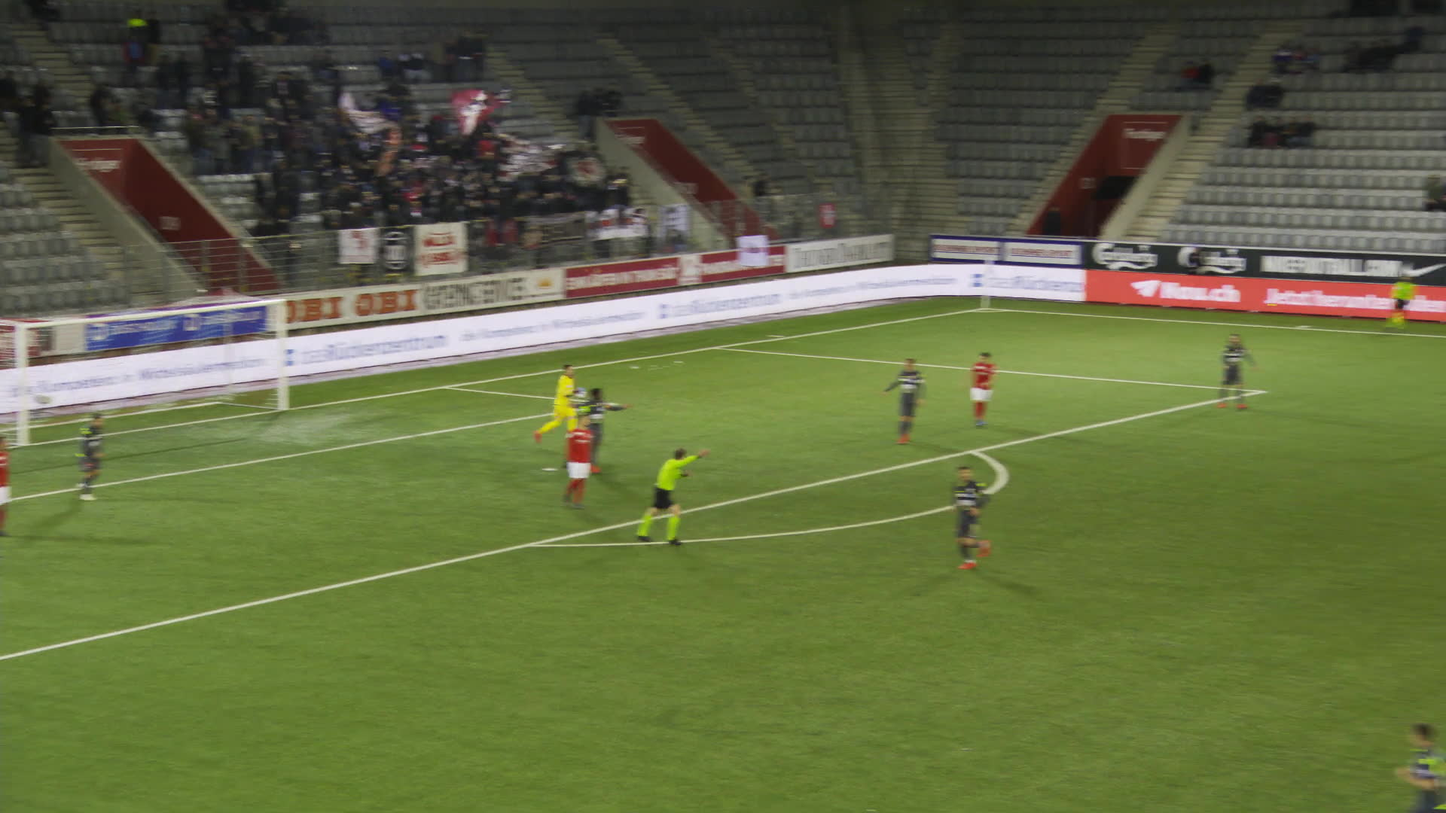ball: (578, 387, 588, 397)
player: (566, 385, 636, 475), (958, 458, 1001, 571), (894, 356, 937, 443), (1394, 723, 1444, 796), (568, 413, 605, 510), (549, 365, 587, 453), (1223, 333, 1264, 409), (82, 412, 115, 501), (980, 349, 1011, 428), (0, 436, 12, 537)
referee: (647, 446, 720, 545), (1396, 274, 1431, 332)
